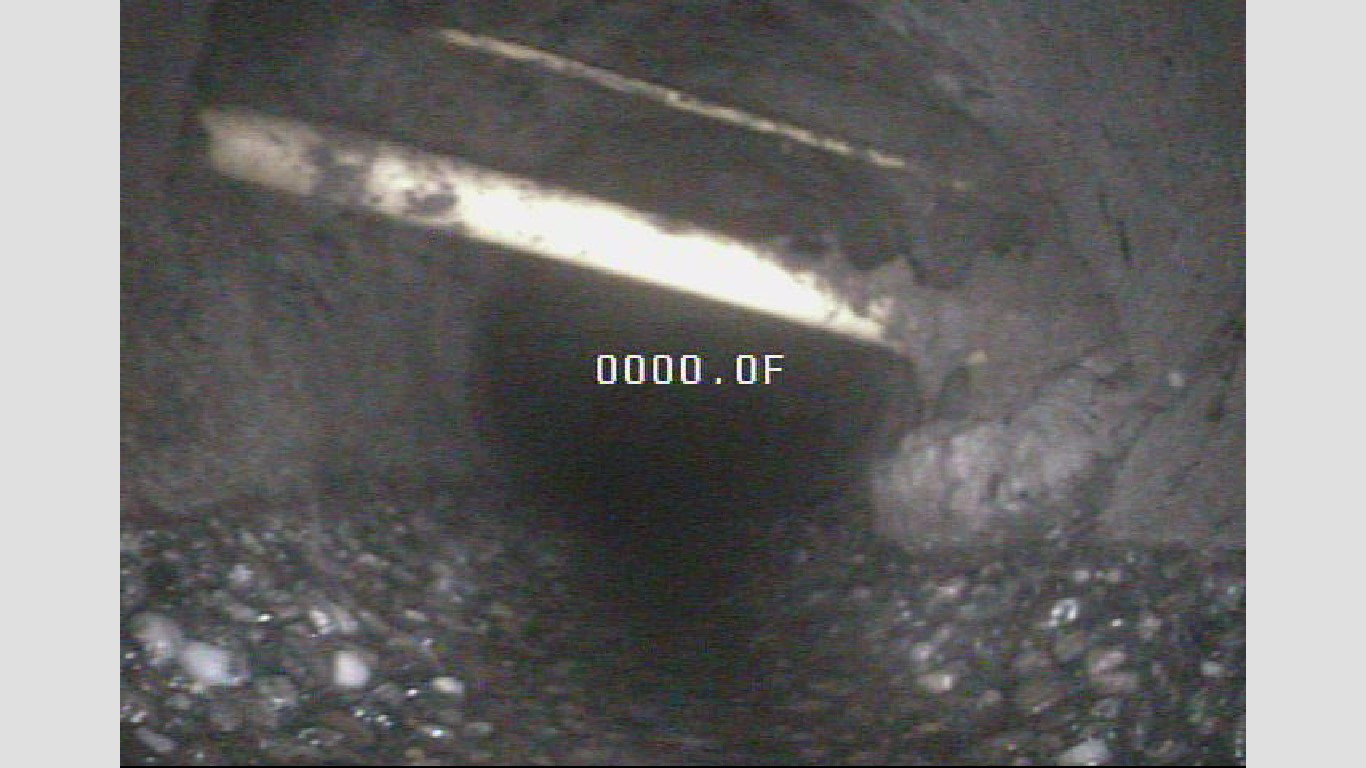cb: (174, 89, 982, 375), (357, 9, 1029, 204)
